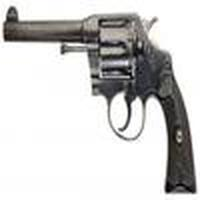gun: (8, 6, 200, 192)
